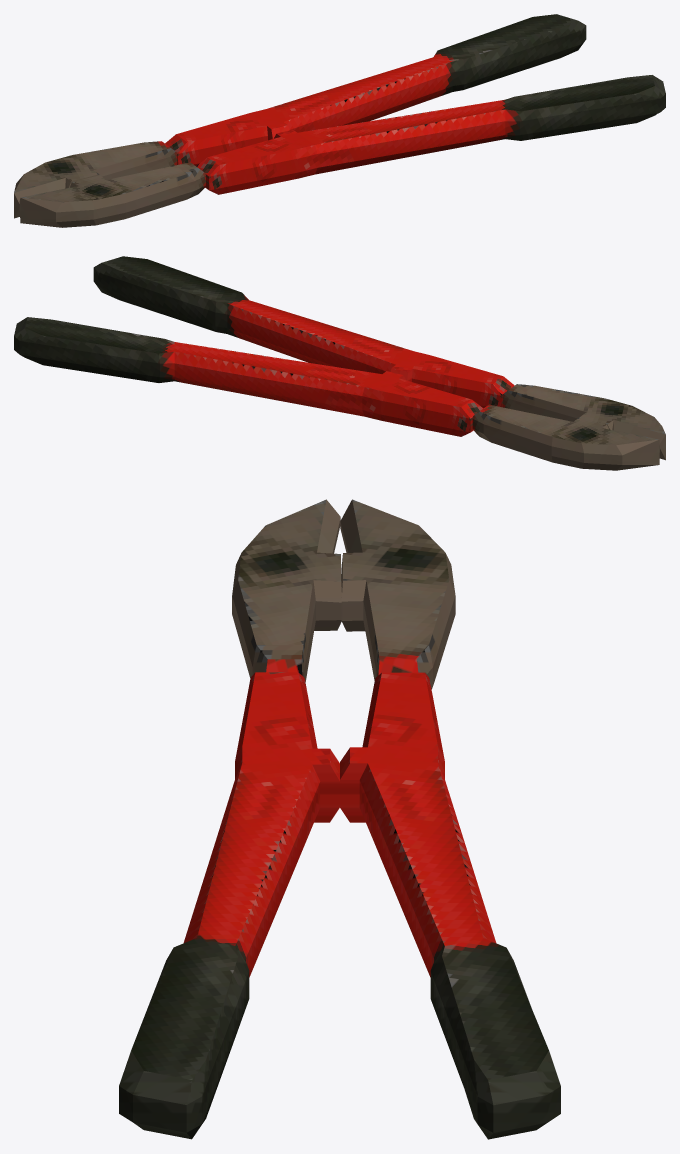
The model's file is Large_idk.fbx.
The picture shows the model from 3 angles, top to bottom: view 1: azimuth 30°, elevation 25°; view 2: azimuth 150°, elevation 25°; view 3: azimuth 270°, elevation 25°; orthographic projection. The views are drawn at different scales.
Visible parts, largest first — view 1: Cube, Cube.001, Cube.002, Cube.003; view 2: Cube.001, Cube, Cube.003, Cube.002; view 3: Cube, Cube.001, Cube.003, Cube.002.
Part boxes in pixels (bbox=[...]): Cube: bbox=[196, 75, 665, 194]; Cube.001: bbox=[165, 14, 586, 165]; Cube.002: bbox=[19, 162, 205, 227]; Cube.003: bbox=[14, 141, 177, 218]; Cube.001: bbox=[14, 317, 483, 436]; Cube: bbox=[93, 256, 514, 408]; Cube.003: bbox=[472, 404, 659, 470]; Cube.002: bbox=[502, 384, 665, 460]; Cube: bbox=[119, 672, 339, 1139]; Cube.001: bbox=[340, 672, 560, 1139]; Cube.003: bbox=[340, 499, 455, 689]; Cube.002: bbox=[232, 499, 342, 681].
Bounding box in the file's own units: 494 × 23.78 × 156.
